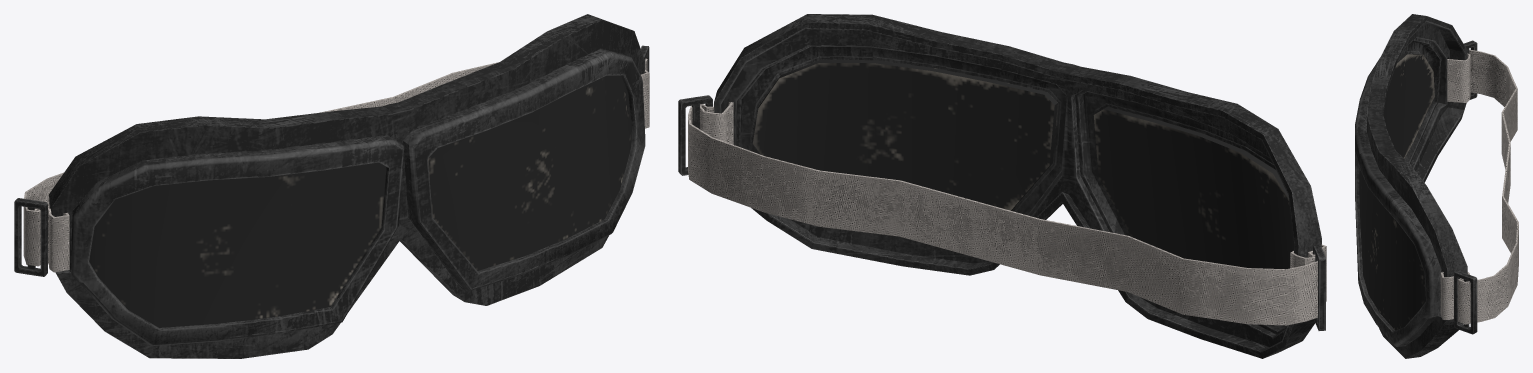
File: Goggles02.FBX
3 views of the same model, side by side, from view 1: azimuth 30°, elevation 25°; view 2: azimuth 150°, elevation 25°; view 3: azimuth 270°, elevation 25° (orthographic). The views are drawn at different scales.
Visible parts, largest first — view 1: Goggles2; view 2: Goggles2; view 3: Goggles2.
Part boxes in pixels (x1,y1,x2,y2): Goggles2: (14, 14, 649, 358); Goggles2: (678, 14, 1326, 358); Goggles2: (1355, 14, 1518, 358).
Bounding box in the file's own units: 18.18 × 6.46 × 5.27.
